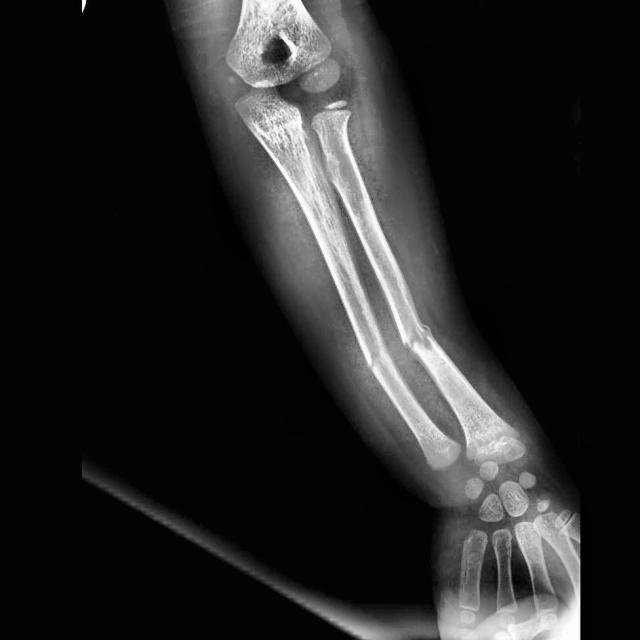fracture: (400, 322, 433, 354), (362, 342, 390, 379)
